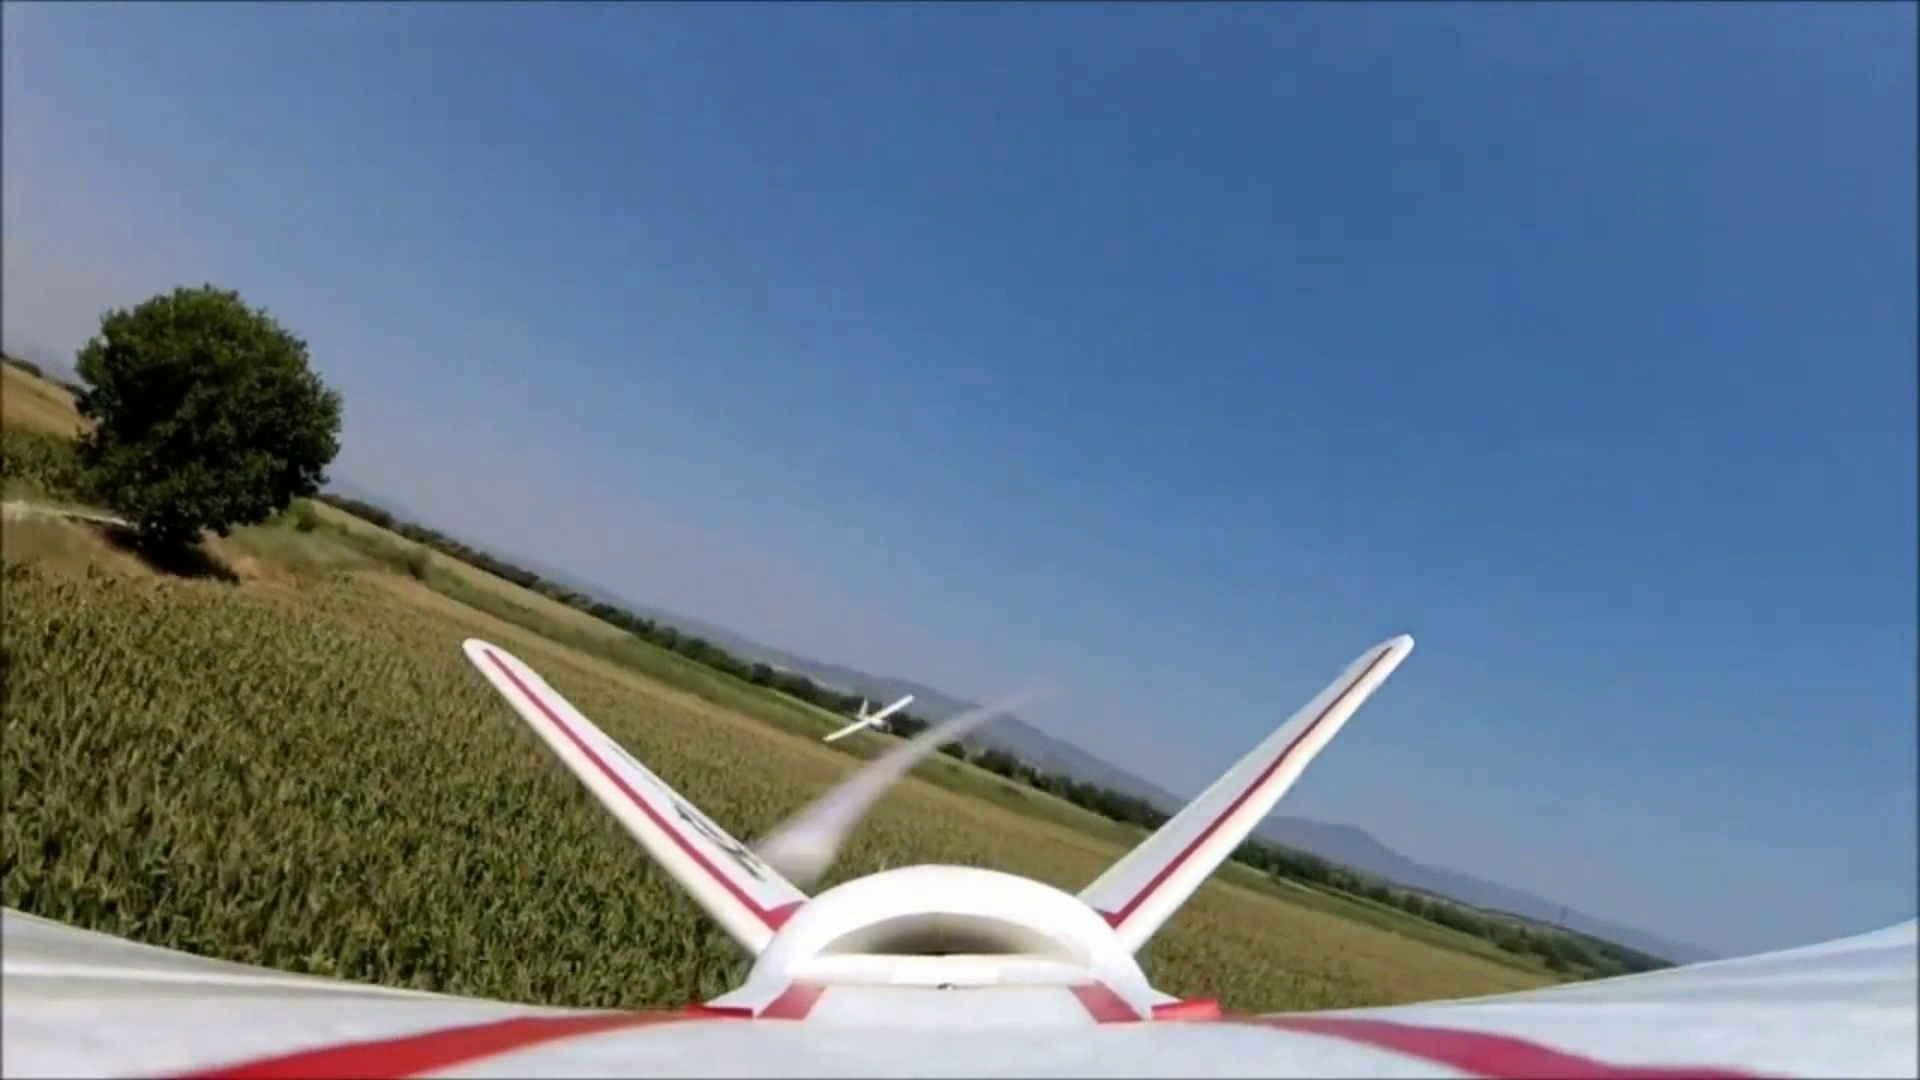airplane: (33, 628, 1888, 1065)
